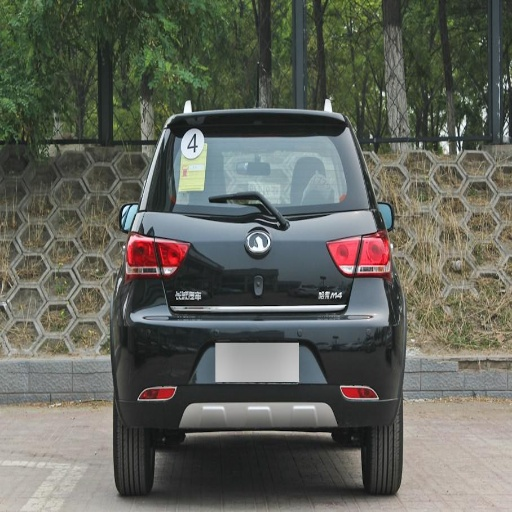back_bumper: (118, 277, 393, 427)
trunk: (155, 212, 376, 364)
